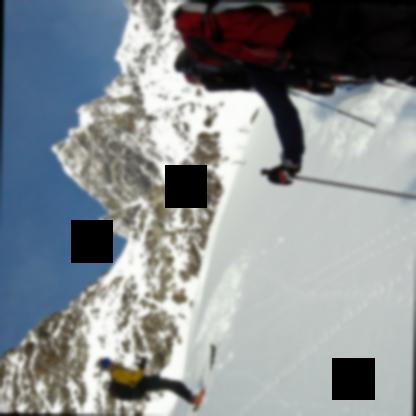backpack: (172, 0, 311, 65), (107, 365, 147, 399)
